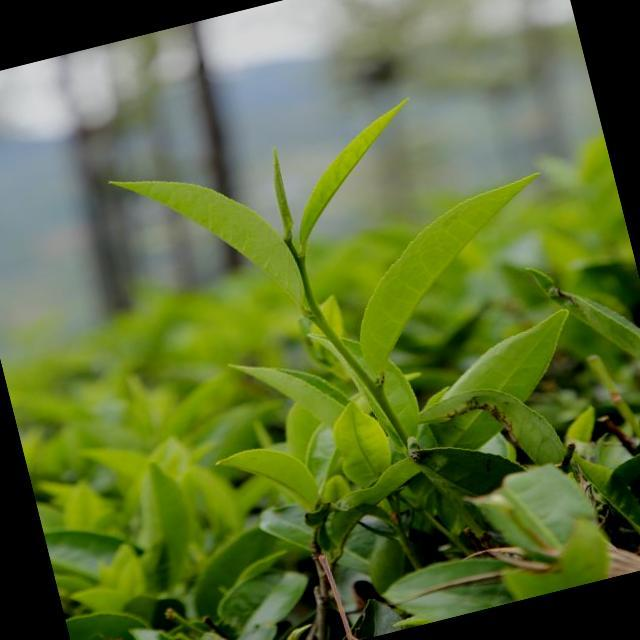Stem: (298, 266, 308, 277)
